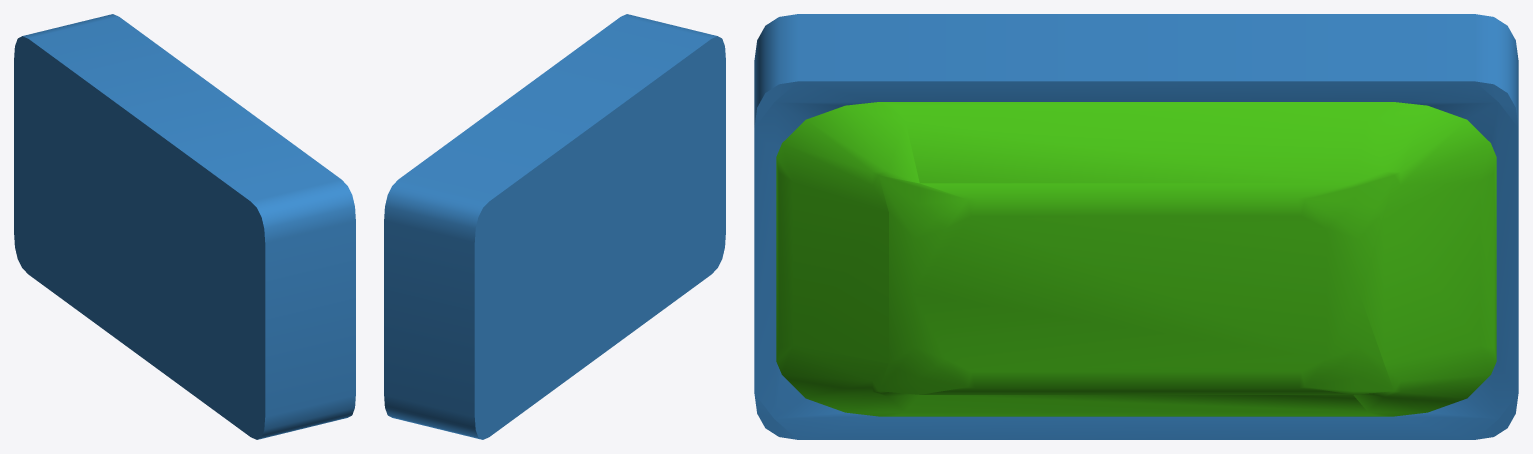
The model's file is Light.fbx.
3 renders of one model, left to right at view 1: azimuth 30°, elevation 25°; view 2: azimuth 150°, elevation 25°; view 3: azimuth 270°, elevation 25°, orthographic. The views are drawn at different scales.
Visible parts, largest first — view 1: Box001; view 2: Box001; view 3: Box001.
Part boxes in pixels (<box>): Box001: <box>14,14,355,439</box>; Box001: <box>384,14,725,439</box>; Box001: <box>754,14,1518,439</box>.
Size of the model in its own units: 0.2172 by 0.3609 by 0.6971.
